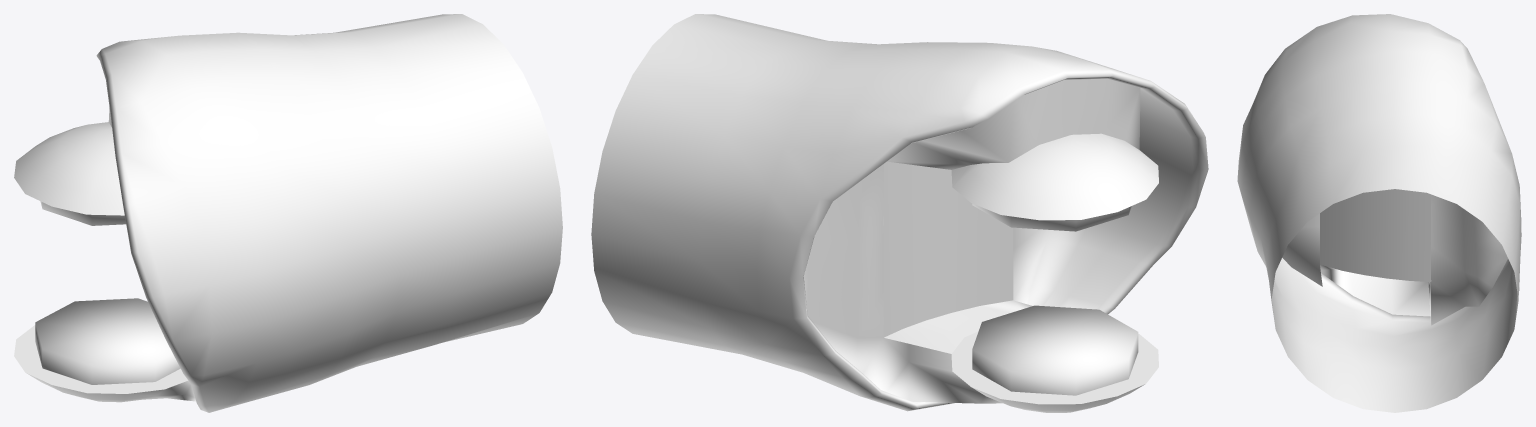
Rendered from RElbowRoll.1.dae.
3 views of the same model, side by side, from view 1: azimuth 30°, elevation 25°; view 2: azimuth 150°, elevation 25°; view 3: azimuth 270°, elevation 25° (orthographic). The views are drawn at different scales.
Parts seen in each view (by area): view 1: RElbowRoll; view 2: RElbowRoll; view 3: RElbowRoll.
Part boxes in pixels (x1,y1,x2,y2): RElbowRoll: (14, 14, 562, 412); RElbowRoll: (591, 14, 1208, 412); RElbowRoll: (1237, 14, 1521, 412).
Size of the model in its own units: 0.0701 by 0.0487 by 0.0514.
1 material, 1 textured.
